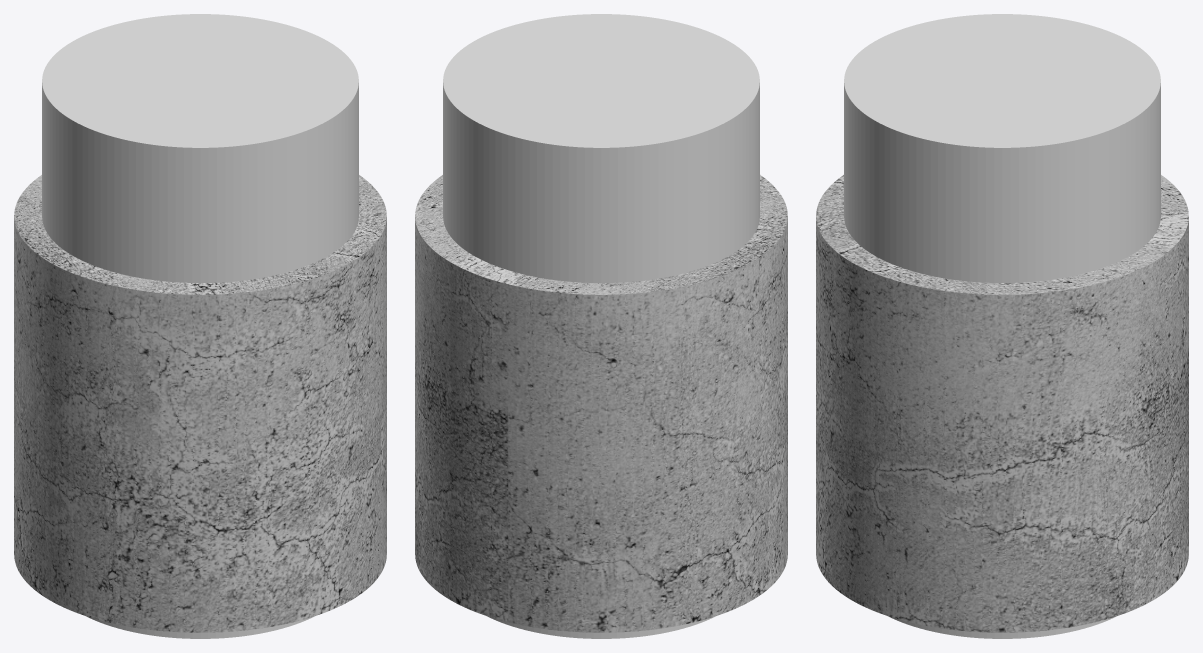
Rendered from вазон3.glb.
The picture shows the model from 3 angles, left to right: view 1: azimuth 30°, elevation 25°; view 2: azimuth 150°, elevation 25°; view 3: azimuth 270°, elevation 25°; orthographic projection.
Parts seen in each view (by area): view 1: Цилиндр, Цилиндр.001, Цилиндр.002; view 2: Цилиндр, Цилиндр.001, Цилиндр.002; view 3: Цилиндр, Цилиндр.001, Цилиндр.002.
Part boxes in pixels (bbox=[...]): Цилиндр: bbox=[14, 175, 386, 632]; Цилиндр.001: bbox=[42, 14, 358, 282]; Цилиндр.002: bbox=[86, 616, 314, 638]; Цилиндр: bbox=[415, 175, 787, 632]; Цилиндр.001: bbox=[443, 14, 759, 282]; Цилиндр.002: bbox=[487, 616, 715, 638]; Цилиндр: bbox=[816, 175, 1188, 632]; Цилиндр.001: bbox=[844, 14, 1160, 282]; Цилиндр.002: bbox=[888, 616, 1116, 638].
Bounding box in the file's own units: 2 × 2.93 × 2.
Materials: 1 (1 with a texture image).
